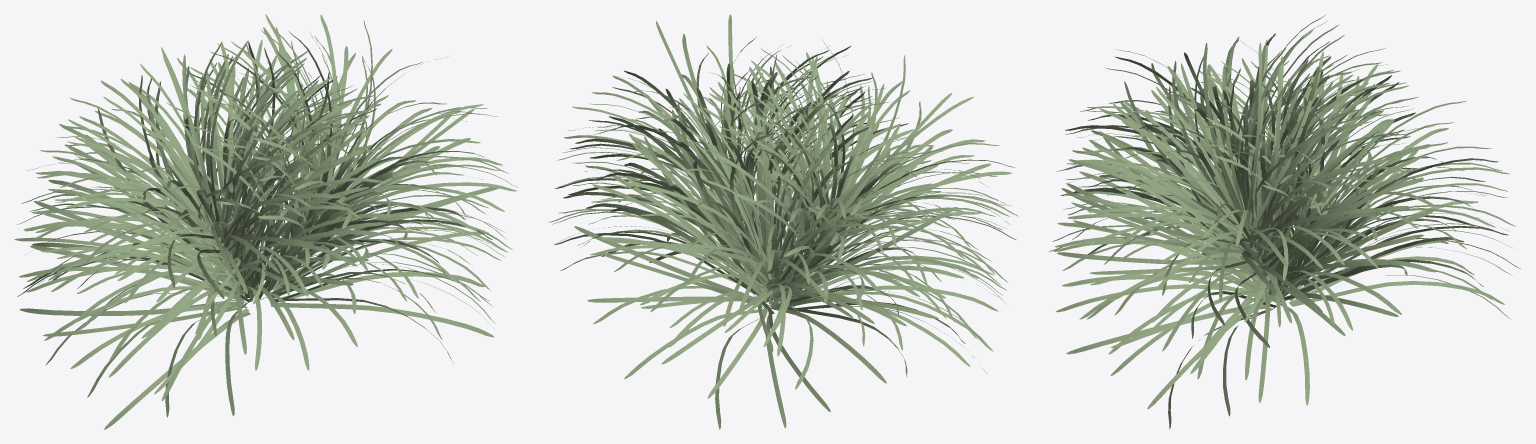
3 renders of one model, left to right at view 1: azimuth 30°, elevation 25°; view 2: azimuth 150°, elevation 25°; view 3: azimuth 270°, elevation 25°, orthographic. The views are drawn at different scales.
Parts seen in each view (by area): view 1: Mondo_Grass_1.Shape; view 2: Mondo_Grass_1.Shape; view 3: Mondo_Grass_1.Shape.
Part boxes in pixels (x1,y1,x2,y2): Mondo_Grass_1.Shape: (14,14,517,429); Mondo_Grass_1.Shape: (548,14,1018,429); Mondo_Grass_1.Shape: (1049,15,1520,429).
Size of the model in its own units: 0.3253 by 0.2301 by 0.3049.
